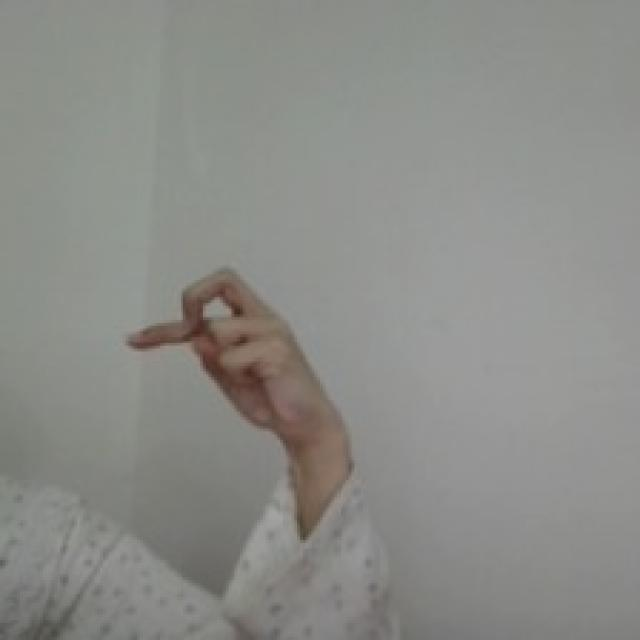sunday: (119, 258, 314, 434)
